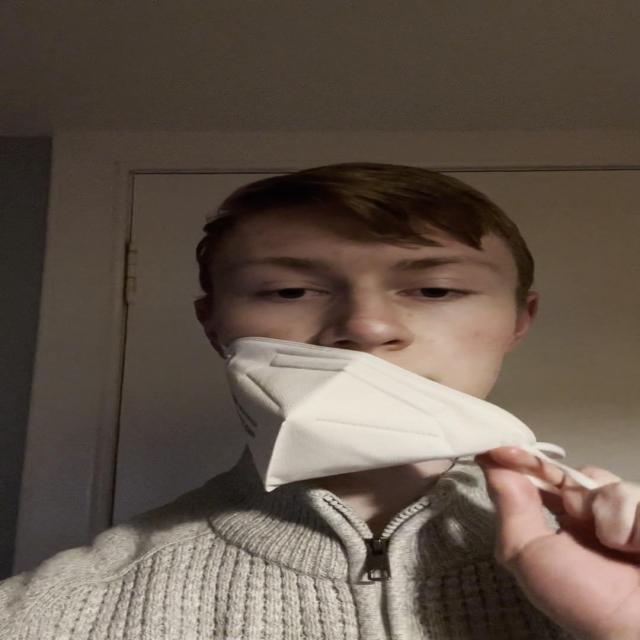no-helmet: (208, 200, 526, 490)
